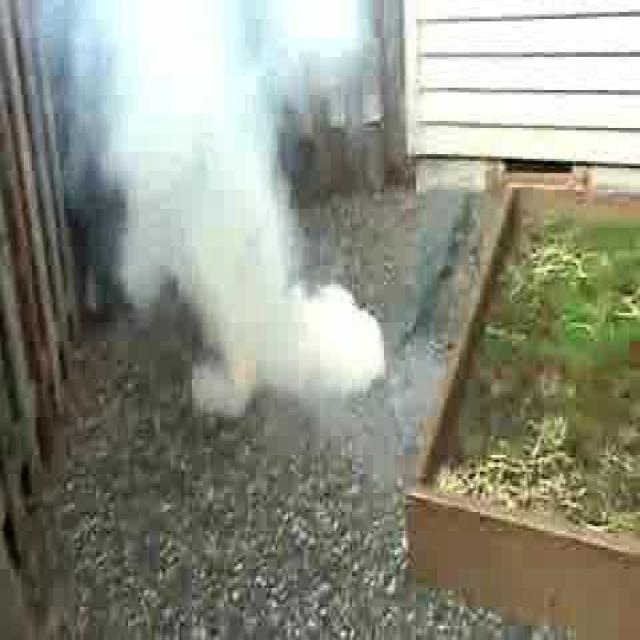Smoke: (0, 0, 387, 417)
